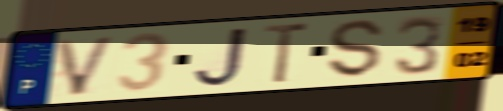3: (117, 30, 174, 95), (394, 14, 442, 77)
J: (190, 25, 251, 90)
S: (327, 18, 387, 79)
T: (261, 21, 313, 86)
V: (53, 33, 119, 98)
